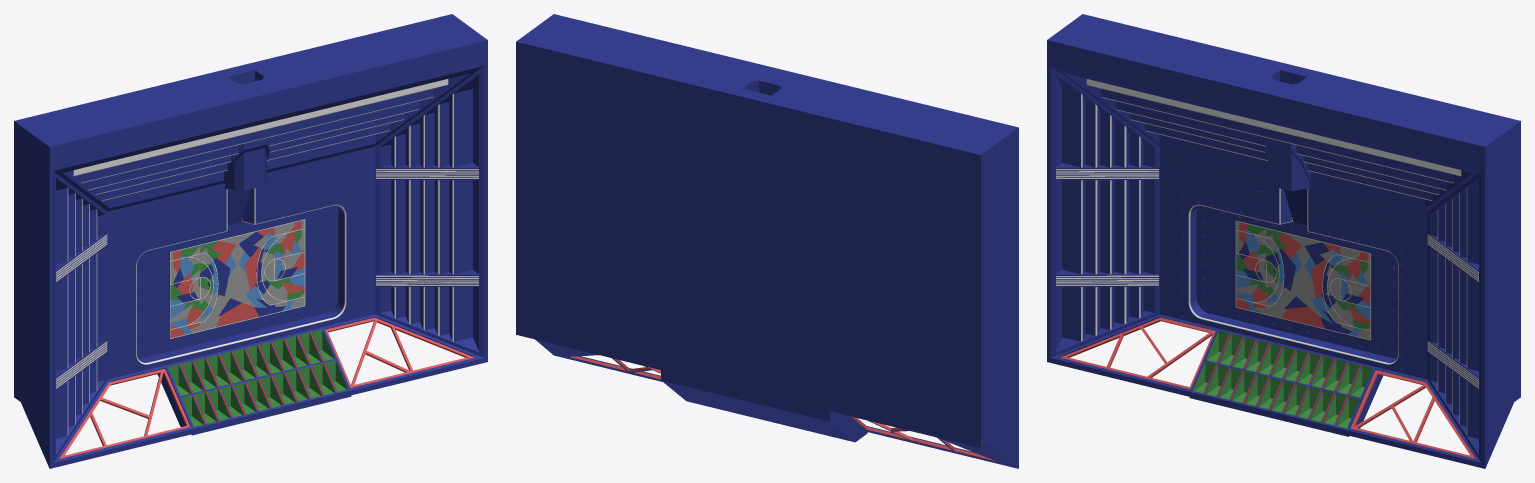
File: basketball_court_future.fbx
3 renders of one model, left to right at view 1: azimuth 30°, elevation 25°; view 2: azimuth 150°, elevation 25°; view 3: azimuth 330°, elevation 25°, orthographic. The views are drawn at different scales.
Visible parts, largest first — view 1: Body100, Body102, Body66; view 2: Body100; view 3: Body100, Body102, Body66.
Boxes of the visible parts, box(x1,y1,x2,y2) form: Body100: box(14, 14, 487, 468); Body102: box(73, 79, 448, 176); Body66: box(208, 274, 249, 321); Body100: box(516, 14, 1018, 468); Body100: box(1047, 14, 1520, 468); Body102: box(1086, 79, 1461, 176); Body66: box(1274, 280, 1315, 309).
Bounding box in the file's own units: 369 × 260 × 52.
